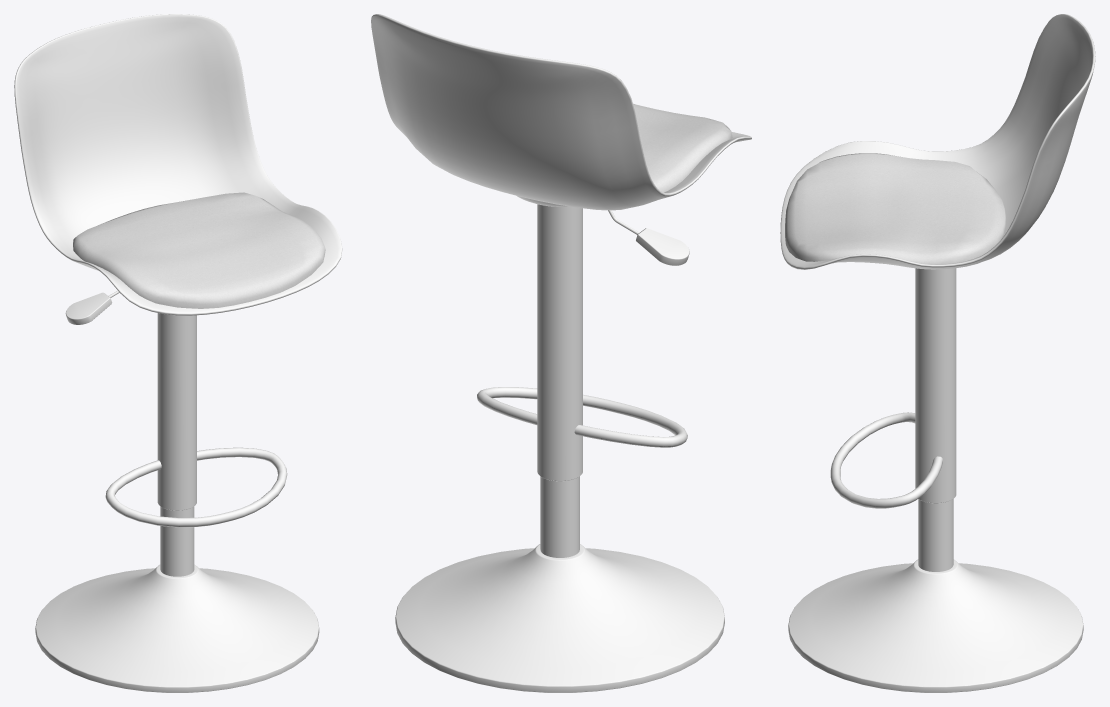
The model's file is chair_48_02.001.fbx.
The picture shows the model from 3 angles, left to right: view 1: azimuth 30°, elevation 25°; view 2: azimuth 150°, elevation 25°; view 3: azimuth 270°, elevation 25°; orthographic projection. The views are drawn at different scales.
Parts seen in each view (by area): view 1: chair_48_02.001; view 2: chair_48_02.001; view 3: chair_48_02.001.
Boxes of the visible parts, x1,y1,x2,y2 form: chair_48_02.001: (14,14,342,692); chair_48_02.001: (371,14,751,692); chair_48_02.001: (780,14,1095,692).
Size of the model in its own units: 38.52 by 83.1 by 41.22.
1 material, 1 textured.
